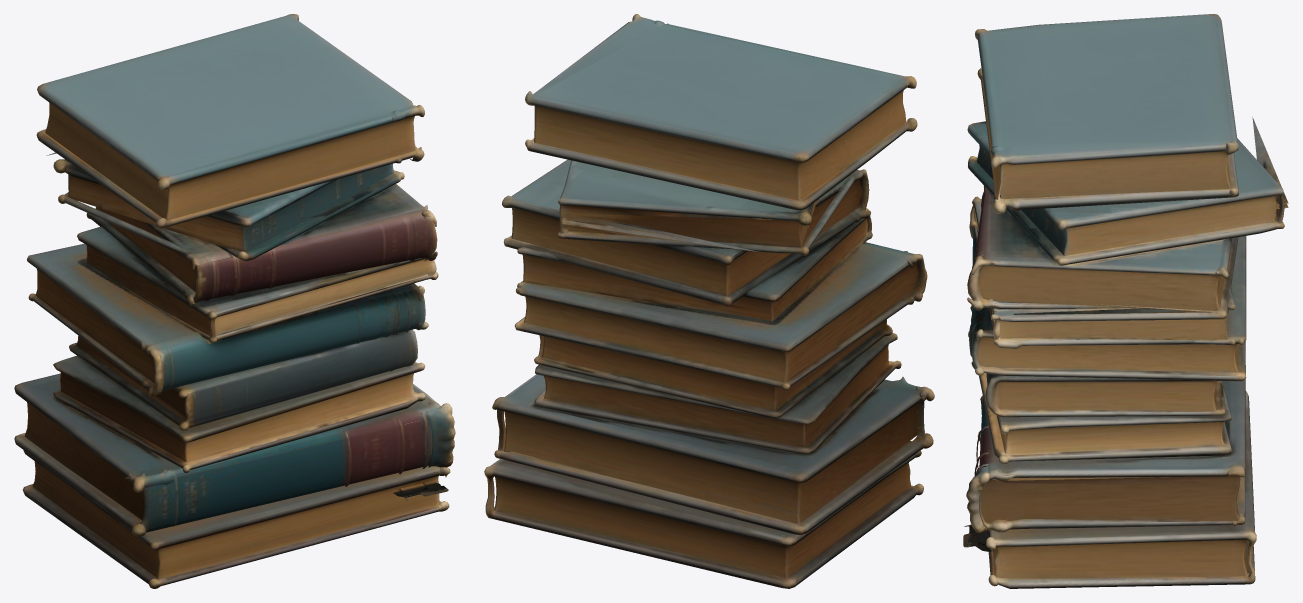
The model's file is antique-book-stack.glb.
3 renders of one model, left to right at view 1: azimuth 30°, elevation 25°; view 2: azimuth 150°, elevation 25°; view 3: azimuth 270°, elevation 25°, orthographic.
Parts seen in each view (by area): view 1: tripo_5422a392_671d_4969_9879_d02bfb38fd47; view 2: tripo_5422a392_671d_4969_9879_d02bfb38fd47; view 3: tripo_5422a392_671d_4969_9879_d02bfb38fd47.
Boxes of the visible parts, left/top/right/bottom form: tripo_5422a392_671d_4969_9879_d02bfb38fd47: left=14, top=14, right=455, bottom=588; tripo_5422a392_671d_4969_9879_d02bfb38fd47: left=484, top=14, right=934, bottom=588; tripo_5422a392_671d_4969_9879_d02bfb38fd47: left=963, top=14, right=1288, bottom=588.
Size of the model in its own units: 0.7896 by 0.9995 by 0.6851.
Materials: 1 (1 with a texture image).
